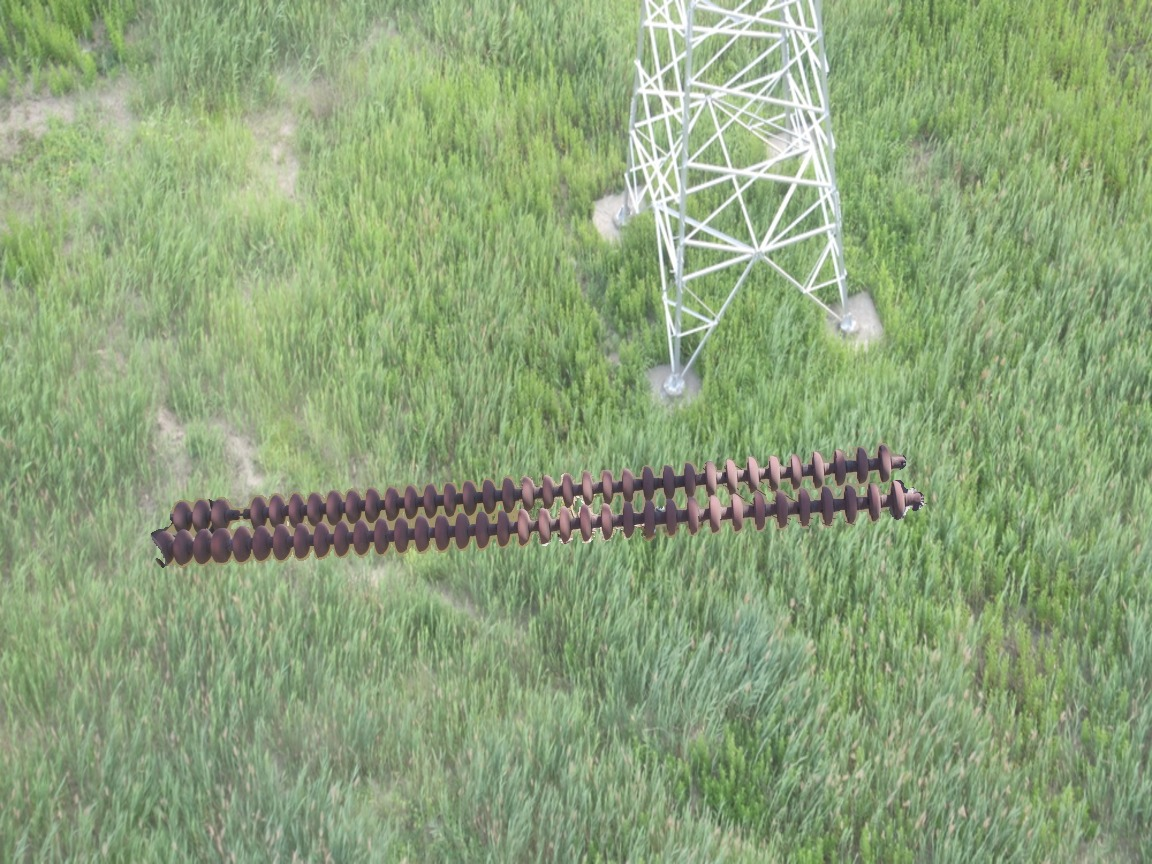defect: (207, 491, 271, 526)
